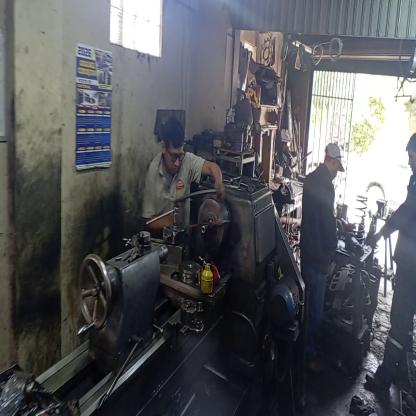lentes: (165, 143, 186, 165)
